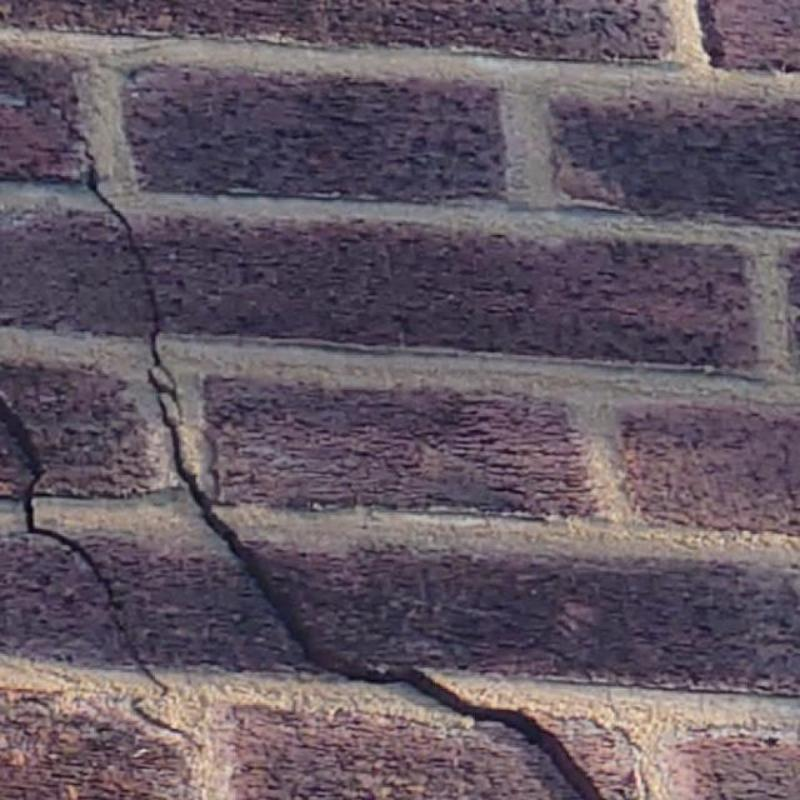pothole: (50, 102, 599, 799), (0, 394, 162, 688), (134, 698, 195, 745)
